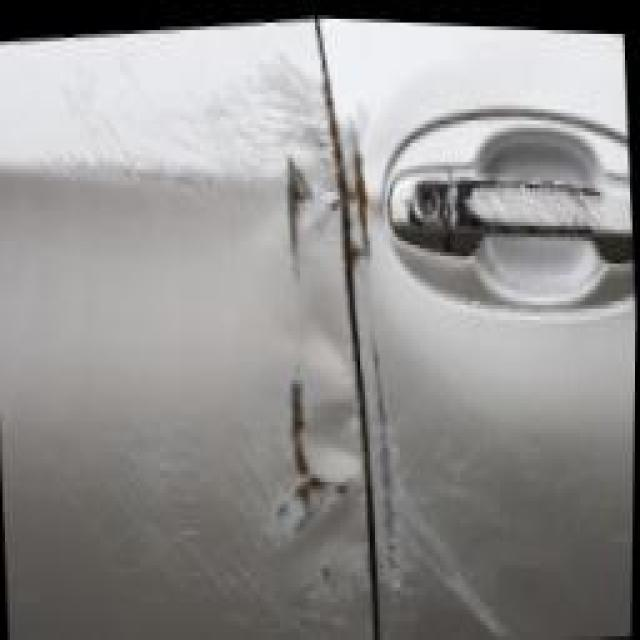Door: (32, 11, 370, 638), (350, 45, 637, 639)
